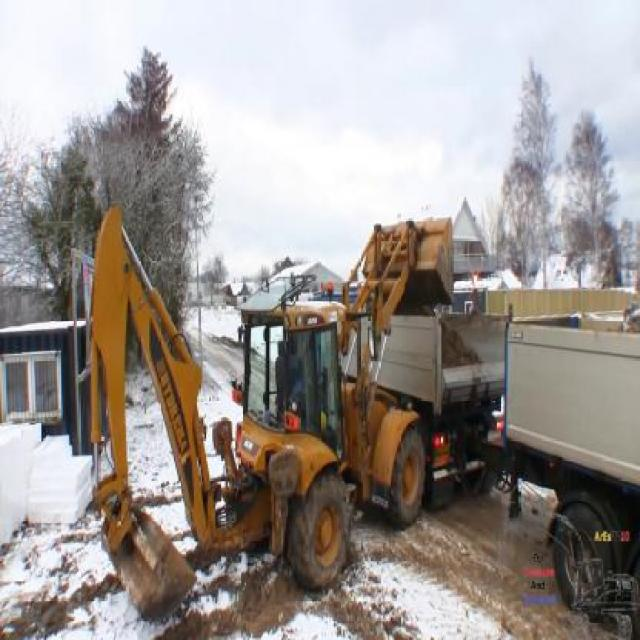Dump Truck: (501, 302, 639, 635), (332, 290, 508, 515)
Loader: (82, 185, 455, 624)
